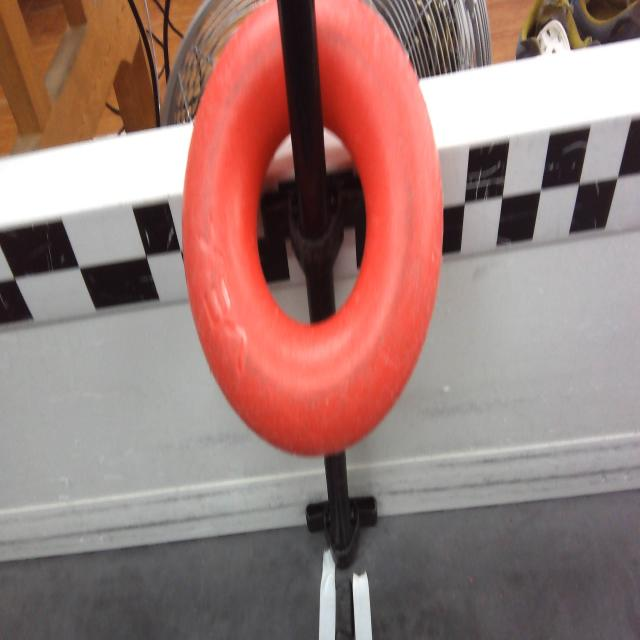Red-Ring: (182, 0, 444, 463)
